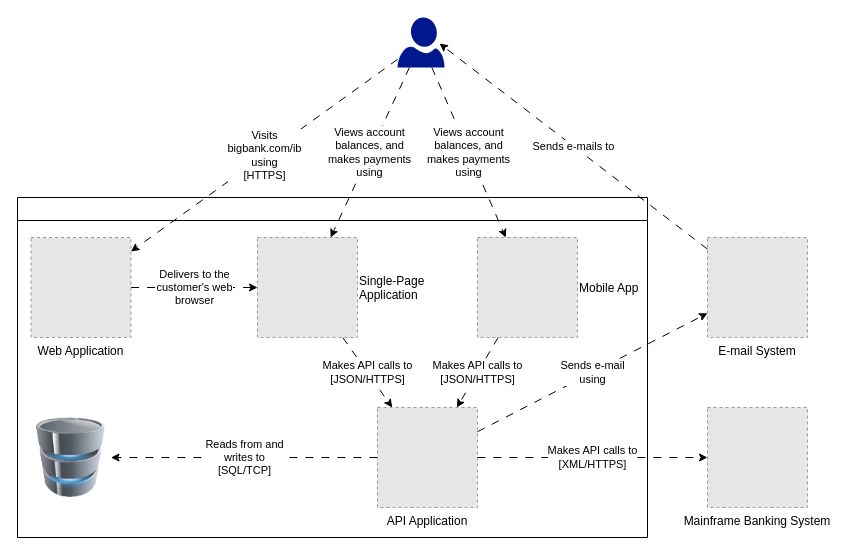
Image size: 849x555. Some labels were removed from this diagram. Grey dashed boxes stand in for pictures. The shapes that lost their labels are listed below. From the top down, each one's box as (x1, y1, x2, y2) in pixels, then its label:
(397, 17, 444, 67): Personal Banking Customer
(16, 196, 648, 538): Internet Banking System
(30, 417, 110, 497): Database
